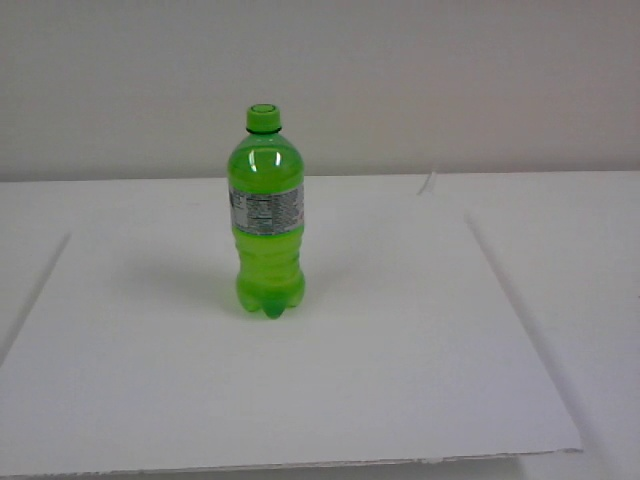botolplastik: (229, 105, 303, 318)
